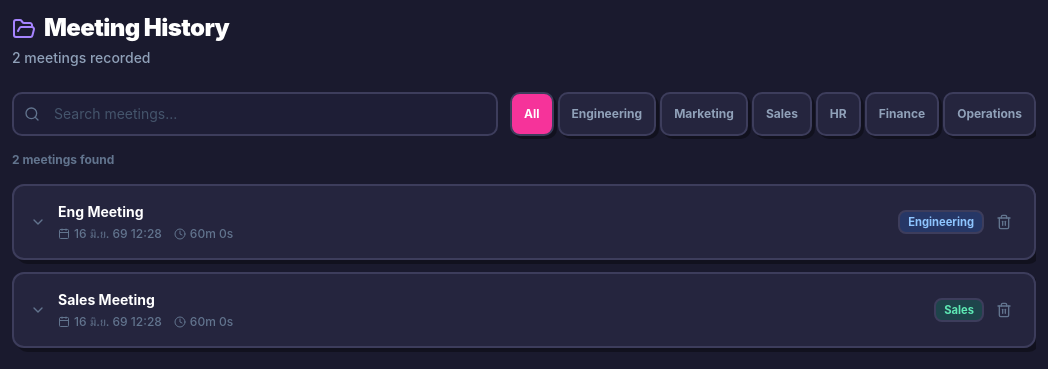
it: MeetingHistory Component › Department Filter › should filter meetings by department
Click the button "Engineering" at (607, 114), box [558, 92, 656, 136]
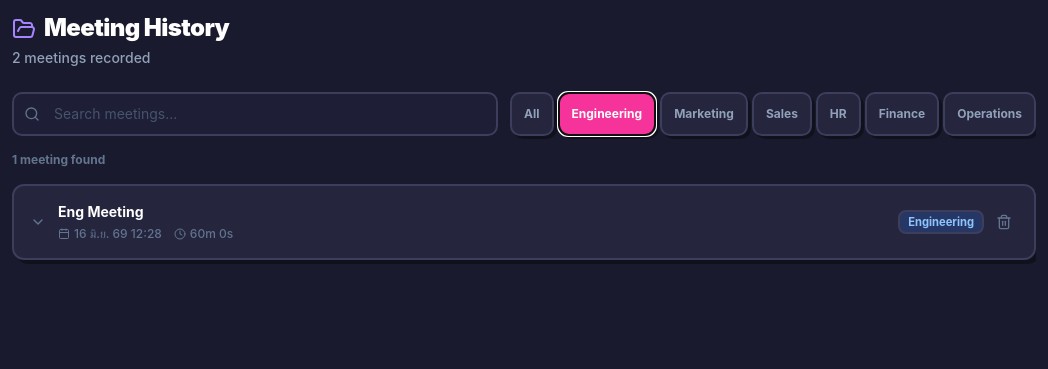
Expected: the text "Eng Meeting" is shown, [58, 203, 144, 220]
Now the button "Sales Meeting" is gone
